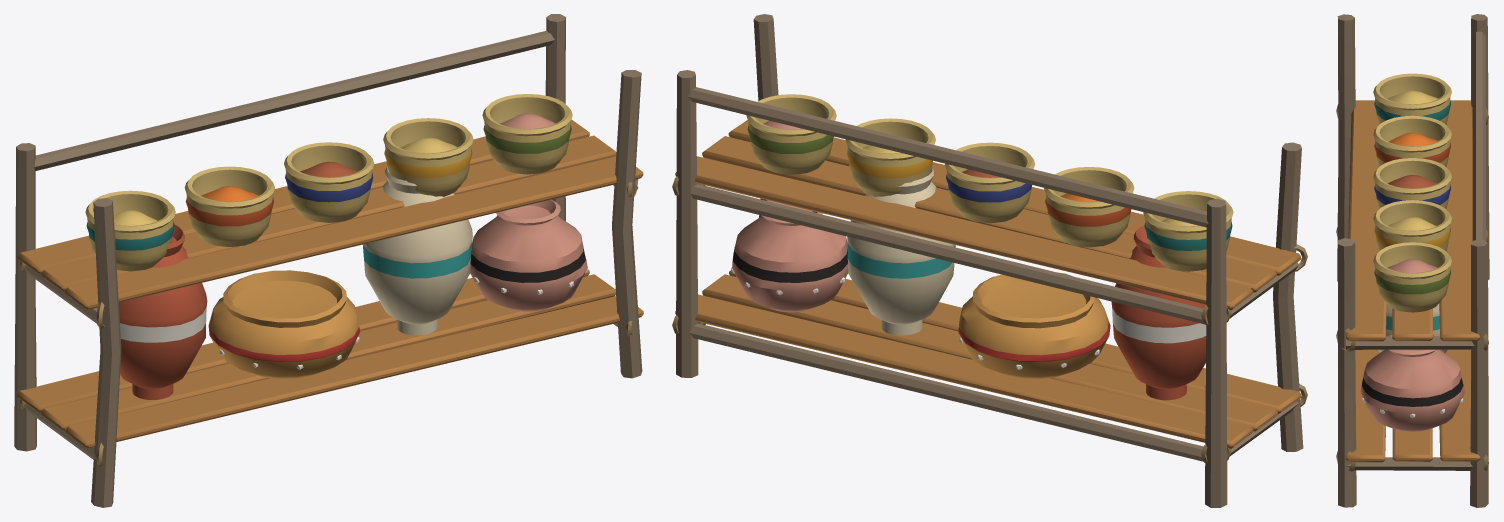
The model's file is deco_shelving_rack_low.fbx.
3 renders of one model, left to right at view 1: azimuth 30°, elevation 25°; view 2: azimuth 150°, elevation 25°; view 3: azimuth 270°, elevation 25°, orthographic. The views are drawn at different scales.
Parts seen in each view (by area): view 1: ShelvingRack_Low_Shelves, ShelvingRack_Low_GoodsLow, ShelvingRack_Low_Frame, ShelvingRack_Low_GoodsTop; view 2: ShelvingRack_Low_Shelves, ShelvingRack_Low_Frame, ShelvingRack_Low_GoodsLow, ShelvingRack_Low_GoodsTop; view 3: ShelvingRack_Low_Shelves, ShelvingRack_Low_Frame, ShelvingRack_Low_GoodsTop, ShelvingRack_Low_GoodsLow.
Boxes of the visible parts, x1=… form: ShelvingRack_Low_Shelves: x1=17, y1=119, x2=643, y2=466; ShelvingRack_Low_GoodsLow: x1=118, y1=167, x2=588, y2=399; ShelvingRack_Low_Frame: x1=14, y1=14, x2=642, y2=507; ShelvingRack_Low_GoodsTop: x1=85, y1=94, x2=572, y2=271; ShelvingRack_Low_Shelves: x1=672, y1=120, x2=1307, y2=463; ShelvingRack_Low_Frame: x1=676, y1=14, x2=1303, y2=507; ShelvingRack_Low_GoodsLow: x1=730, y1=167, x2=1206, y2=400; ShelvingRack_Low_GoodsTop: x1=746, y1=94, x2=1233, y2=271; ShelvingRack_Low_Shelves: x1=1336, y1=100, x2=1488, y2=471; ShelvingRack_Low_Frame: x1=1337, y1=14, x2=1489, y2=507; ShelvingRack_Low_GoodsTop: x1=1373, y1=73, x2=1451, y2=312; ShelvingRack_Low_GoodsLow: x1=1360, y1=303, x2=1465, y2=432.
Bounding box in the file's own units: 252 × 131 × 69.09.
